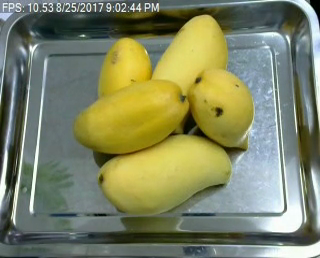Mango: (96, 131, 235, 216), (71, 79, 191, 155), (157, 6, 230, 92), (190, 70, 254, 153), (96, 36, 151, 103)
